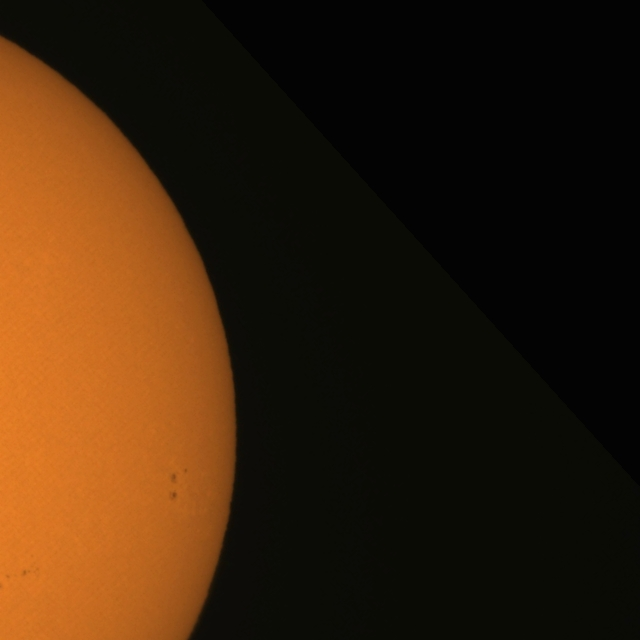sunspot: (168, 468, 181, 502), (21, 564, 40, 578), (168, 490, 178, 502)
